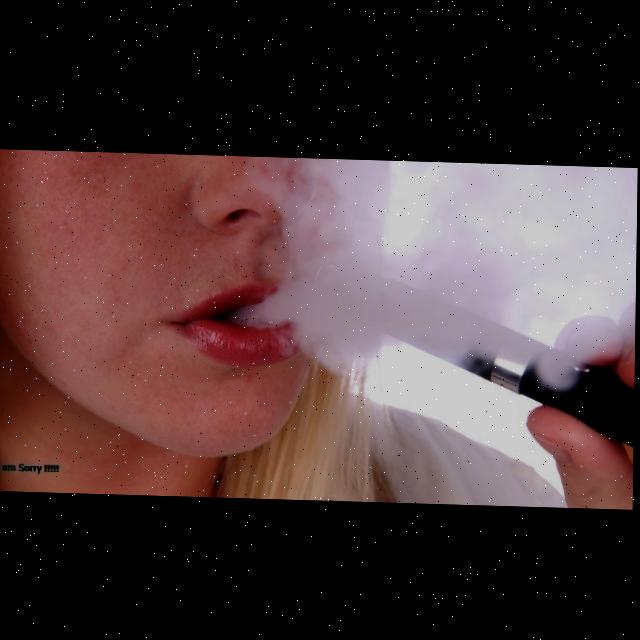vape: (378, 271, 636, 443)
